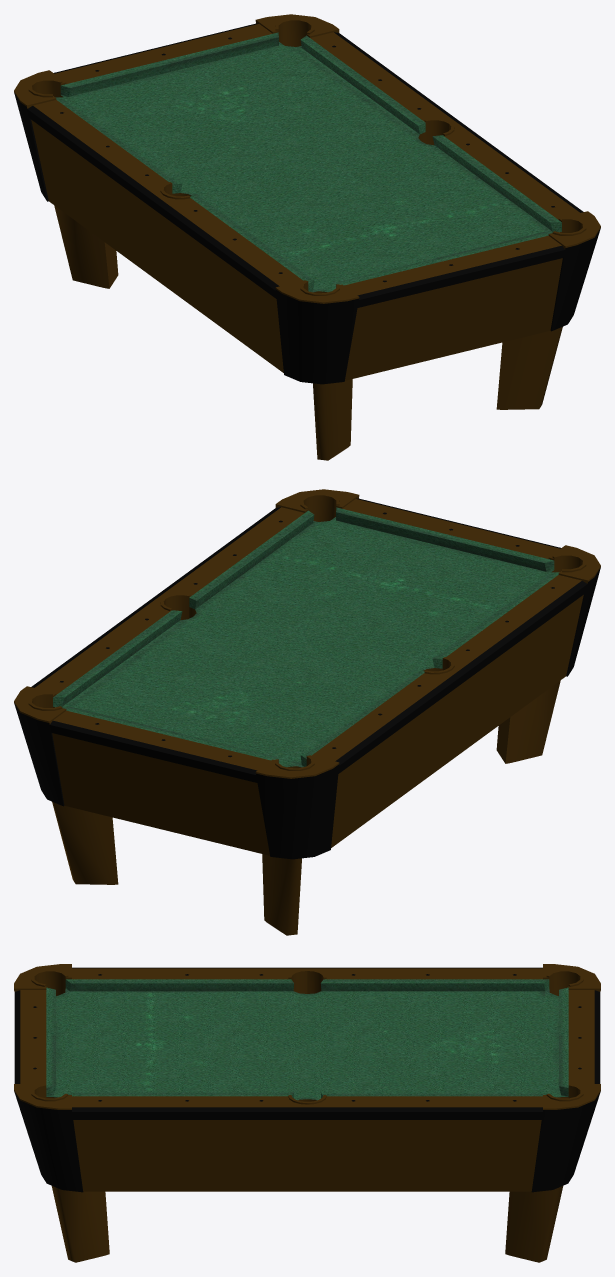
File: pooltable.dae
3 renders of one model, top to bottom at view 1: azimuth 30°, elevation 25°; view 2: azimuth 150°, elevation 25°; view 3: azimuth 270°, elevation 25°, orthographic. The views are drawn at different scales.
Visible parts, largest first — view 1: _1_filzmatte, _4_seitenflaechen, _6_holztop, _5_rahmen, _2_beine; view 2: _1_filzmatte, _4_seitenflaechen, _6_holztop, _5_rahmen, _2_beine; view 3: _1_filzmatte, _4_seitenflaechen, _6_holztop, _5_rahmen, _2_beine.
Part boxes in pixels (bbox=[...]): _1_filzmatte: bbox=[55, 32, 561, 292]; _4_seitenflaechen: bbox=[31, 120, 562, 380]; _6_holztop: bbox=[14, 14, 600, 303]; _5_rahmen: bbox=[14, 23, 600, 384]; _2_beine: bbox=[54, 205, 562, 460]; _1_filzmatte: bbox=[53, 507, 559, 767]; _4_seitenflaechen: bbox=[52, 595, 583, 855]; _6_holztop: bbox=[14, 489, 600, 778]; _5_rahmen: bbox=[14, 498, 600, 859]; _2_beine: bbox=[52, 680, 560, 935]; _1_filzmatte: bbox=[46, 979, 568, 1100]; _4_seitenflaechen: bbox=[73, 1120, 541, 1191]; _6_holztop: bbox=[14, 964, 600, 1109]; _5_rahmen: bbox=[14, 967, 600, 1192]; _2_beine: bbox=[51, 1186, 563, 1262].
Size of what is drawn, in the model's own units: 135 by 76.44 by 231.
Materials: 3 (1 with a texture image).
